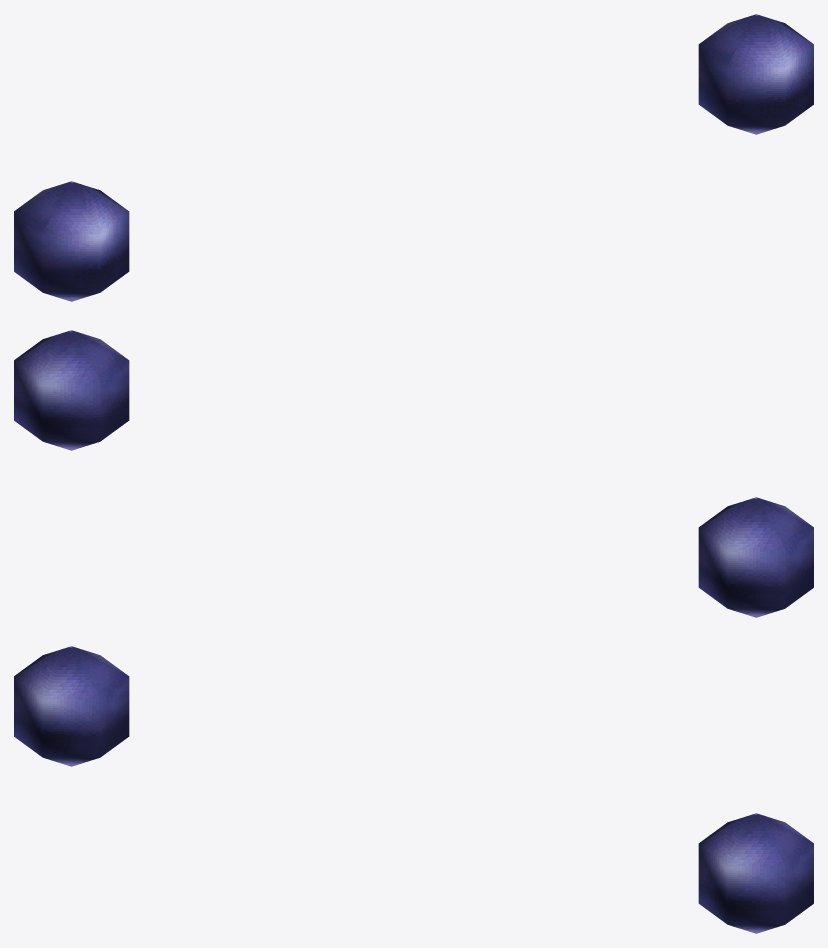
The model's file is clothes_04_sa.glb.
3 renders of one model, top to bottom at view 1: azimuth 30°, elevation 25°; view 2: azimuth 150°, elevation 25°; view 3: azimuth 330°, elevation 25°, orthographic.
Visible parts, largest first — view 1: clothes_04_sa; view 2: clothes_04_sa; view 3: clothes_04_sa.
Boxes of the visible parts, bbox=[...] form: clothes_04_sa: bbox=[14, 14, 813, 301]; clothes_04_sa: bbox=[14, 330, 813, 617]; clothes_04_sa: bbox=[14, 646, 813, 933].
Size of the model in its own units: 0.6563 by 0.098 by 0.0849.
Materials: 1 (1 with a texture image).
